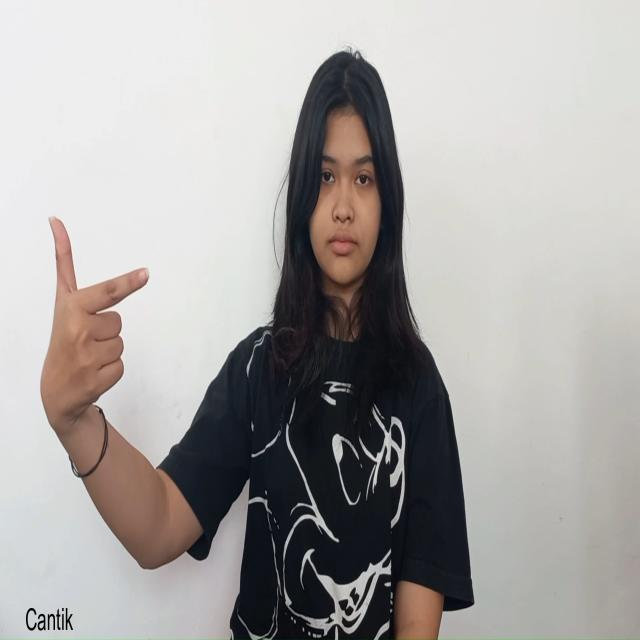Cantik -BISINDO-: (38, 213, 151, 461)
